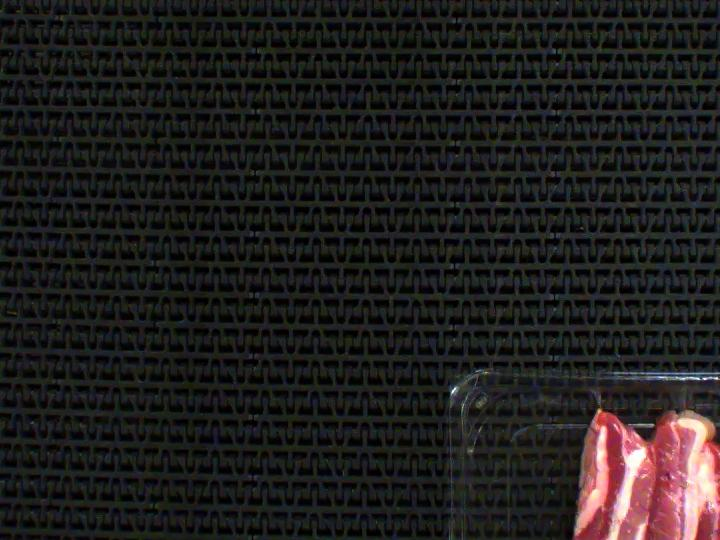packaging-error: (657, 379, 697, 419), (588, 383, 610, 412)
